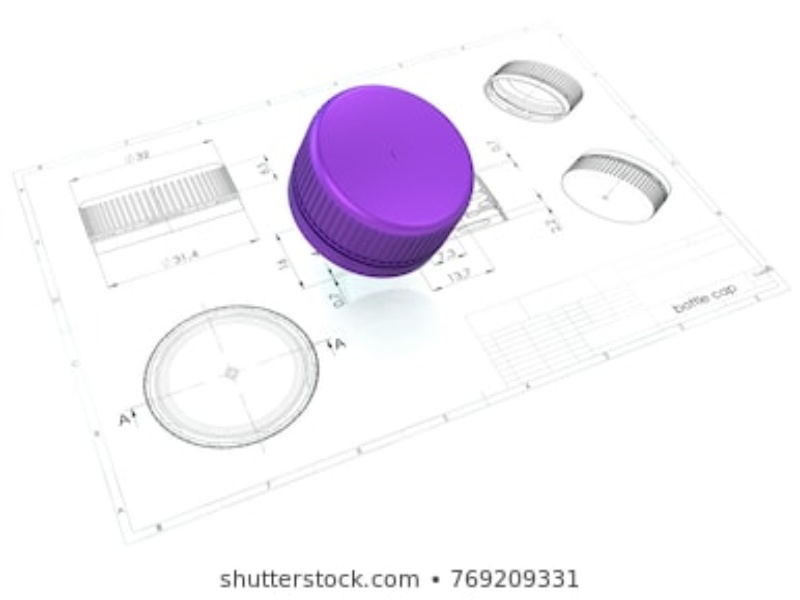bottle-cap: (288, 85, 478, 280)
